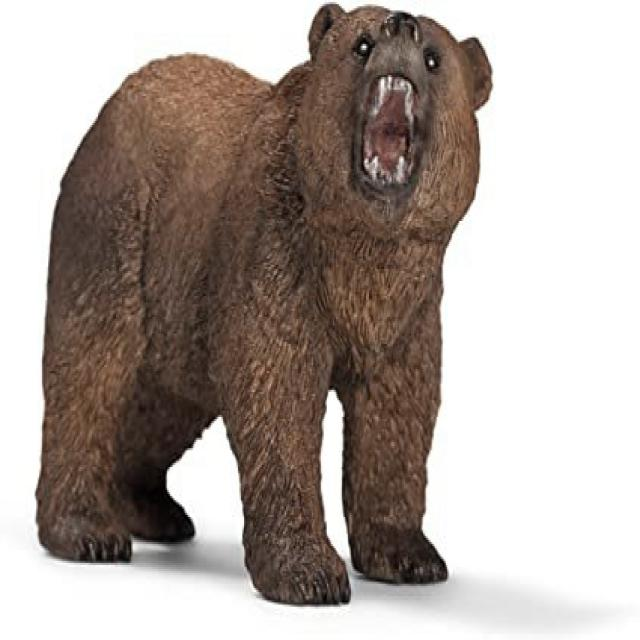bear: (38, 4, 492, 602)
